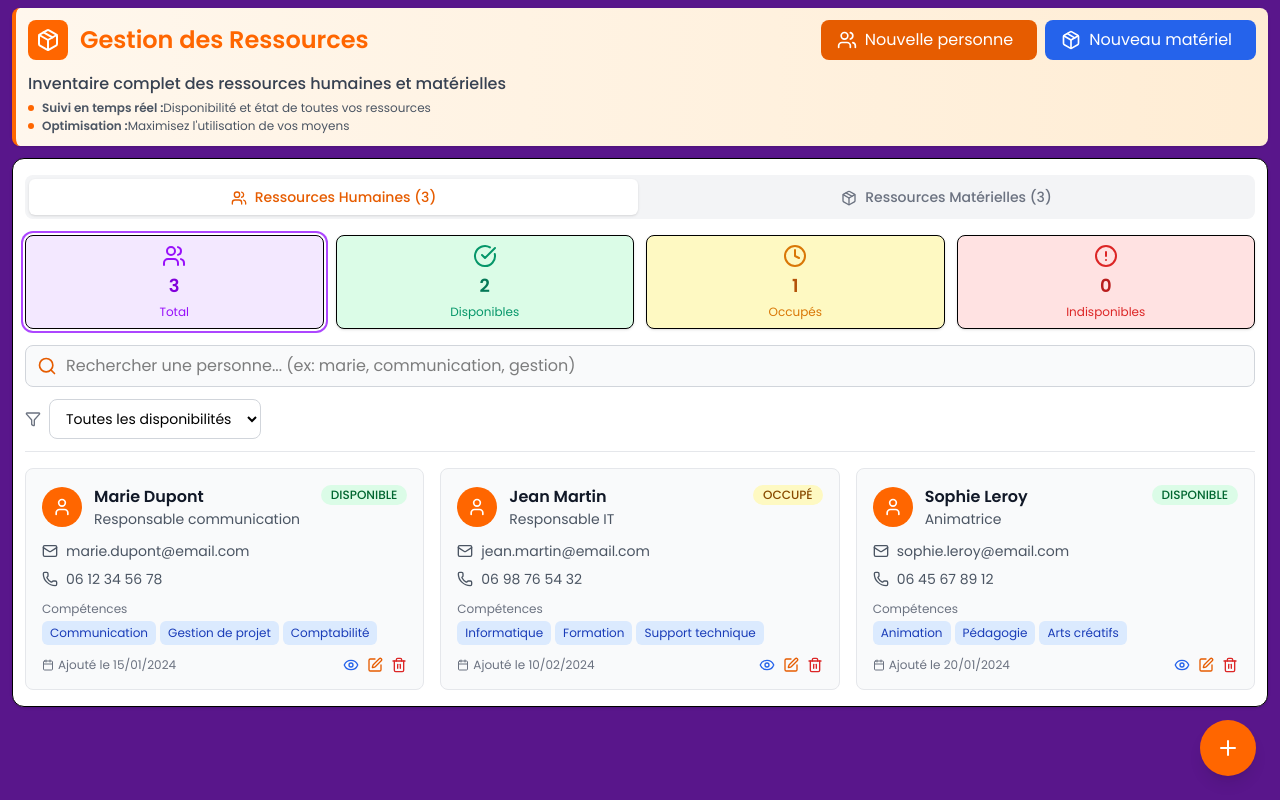
Test: ResourcesPage › should show active filters and allow clearing them
Note: Set a search term
Replace the text in the field with placeholder "Rechercher une personne" with "Marie" at (640, 366), box [25,345,1255,387]
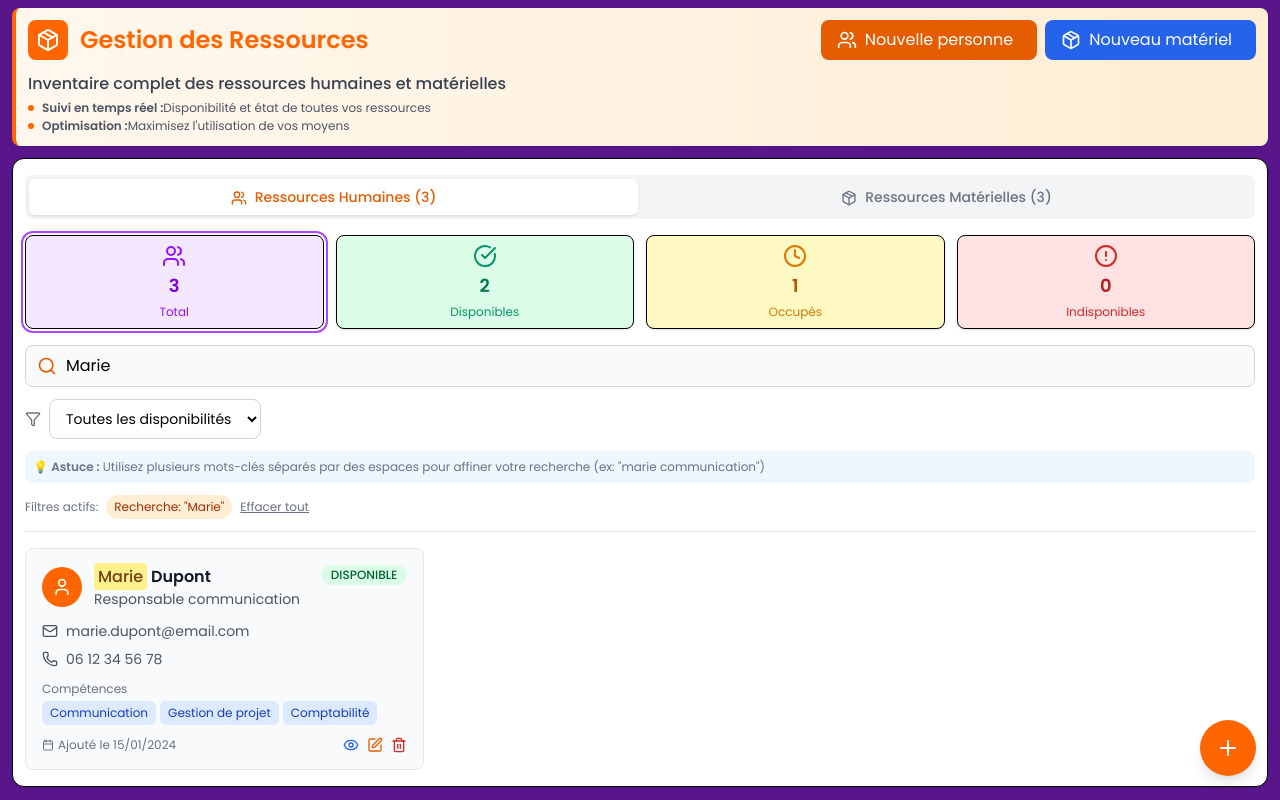
Now the text "Recherche: \"Marie\"" is shown, box [106,495,232,519]
Now the button "Effacer tout" is shown
Note: Click clear all
Click the button "Effacer tout" at (275, 507), box [240,499,309,515]
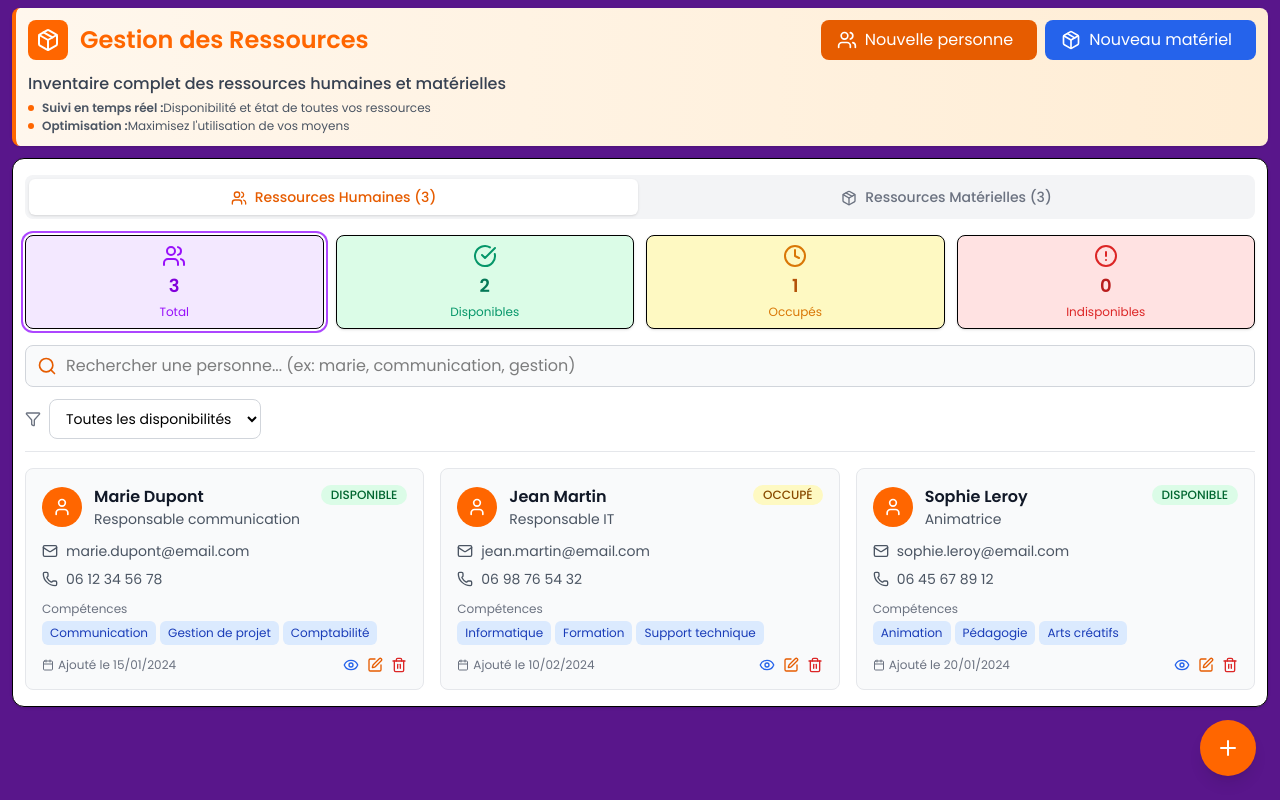
Now the text "Recherche: \"Marie\"" is gone
Now the field with placeholder "Rechercher une personne" is empty, box [25,345,1255,387]
